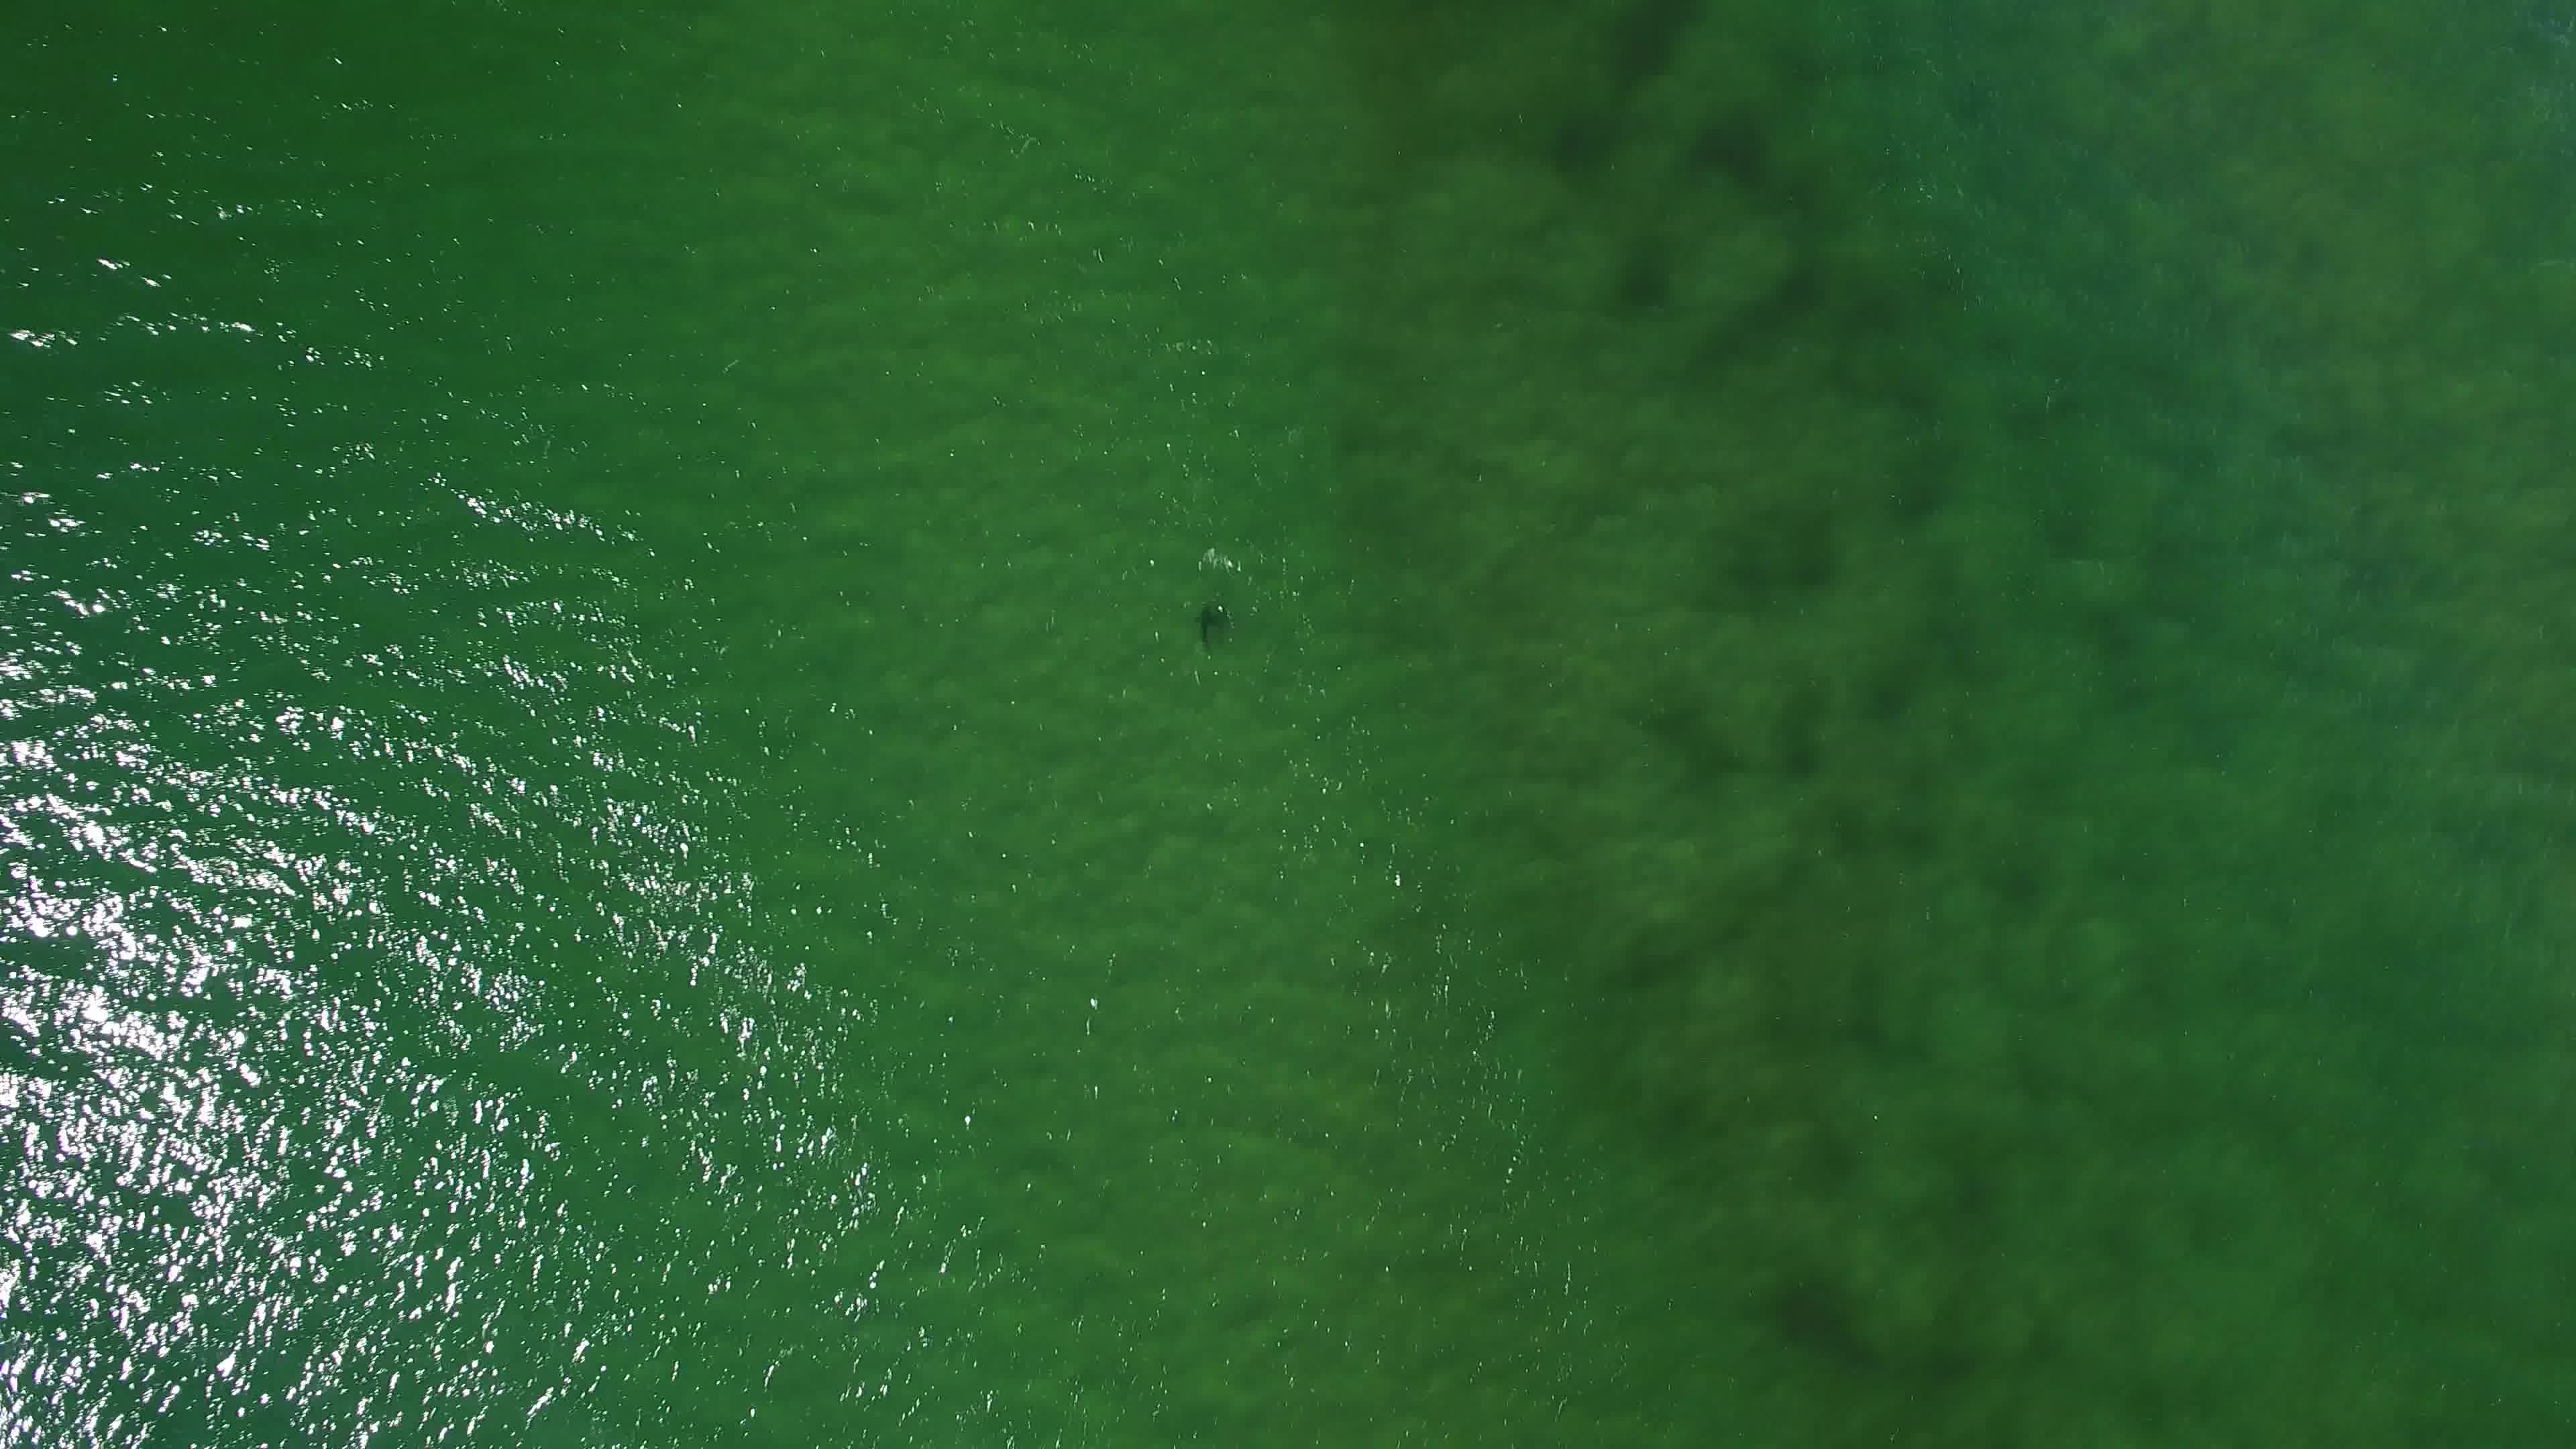shark: (1191, 594, 1224, 649)
